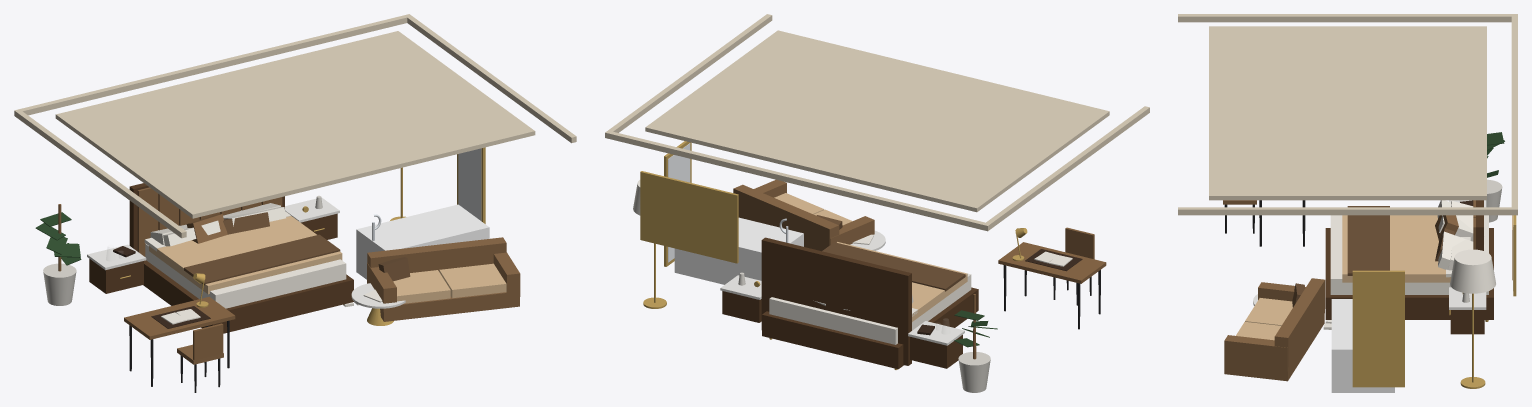
Rendered from hero-room.glb.
3 renders of one model, left to right at view 1: azimuth 30°, elevation 25°; view 2: azimuth 150°, elevation 25°; view 3: azimuth 270°, elevation 25°, orthographic. The views are drawn at different scales.
Visible parts, largest first — view 1: ArchitecturalShell, BedGroup, sofa, duvet, bathtub, bed, PottedPlant, Nightstand_L, desk, DeskChair, mirror, Nightstand_R (+3 smaller); view 2: ArchitecturalShell, BedGroup, FramedArtwork, sofa, bathtub, bed, Nightstand_L, desk, PottedPlant, Nightstand_R, WorkspaceGroup, duvet (+3 smaller); view 3: ArchitecturalShell, sofa, VanityMirror, BedGroup, duvet, bathtub, FloorLamp, bed, Nightstand_R, PottedPlant, pillow_4, pillow_3 (+1 smaller).
Part boxes in pixels (left/top/right/bottom): ArchitecturalShell: left=14, top=14, right=576, bottom=238; BedGroup: left=129, top=183, right=353, bottom=333; sofa: left=367, top=237, right=520, bottom=321; duvet: left=149, top=216, right=342, bottom=294; bathtub: left=356, top=204, right=489, bottom=279; bed: left=145, top=243, right=346, bottom=308; PottedPlant: left=35, top=204, right=81, bottom=305; Nightstand_L: left=87, top=244, right=146, bottom=293; desk: left=124, top=297, right=235, bottom=339; DeskChair: left=177, top=323, right=223, bottom=392; mirror: left=458, top=148, right=481, bottom=220; Nightstand_R: left=285, top=195, right=339, bottom=239; ArchitecturalShell: left=605, top=14, right=1149, bottom=231; BedGroup: left=761, top=237, right=978, bottom=369; FramedArtwork: left=640, top=171, right=738, bottom=263; sofa: left=733, top=179, right=874, bottom=251; bathtub: left=674, top=217, right=803, bottom=284; bed: left=769, top=273, right=971, bottom=344; Nightstand_L: left=908, top=321, right=964, bottom=368; desk: left=998, top=242, right=1106, bottom=283; PottedPlant: left=954, top=294, right=997, bottom=392; Nightstand_R: left=720, top=272, right=761, bottom=322; WorkspaceGroup: left=1003, top=228, right=1100, bottom=329; duvet: left=837, top=242, right=967, bottom=321; ArchitecturalShell: left=1178, top=14, right=1517, bottom=215; sofa: left=1224, top=278, right=1325, bottom=381; VanityMirror: left=1352, top=270, right=1404, bottom=387; BedGroup: left=1325, top=200, right=1493, bottom=321; duvet: left=1342, top=215, right=1450, bottom=282; bathtub: left=1331, top=299, right=1394, bottom=392; FloorLamp: left=1450, top=249, right=1495, bottom=388; bed: left=1330, top=215, right=1488, bottom=294; Nightstand_R: left=1449, top=287, right=1486, bottom=334; PottedPlant: left=1486, top=132, right=1504, bottom=222; pillow_4: left=1438, top=231, right=1469, bottom=269; pillow_3: left=1437, top=200, right=1473, bottom=239.
Bounding box in the file's own units: 6 × 2.71 × 4.4.
